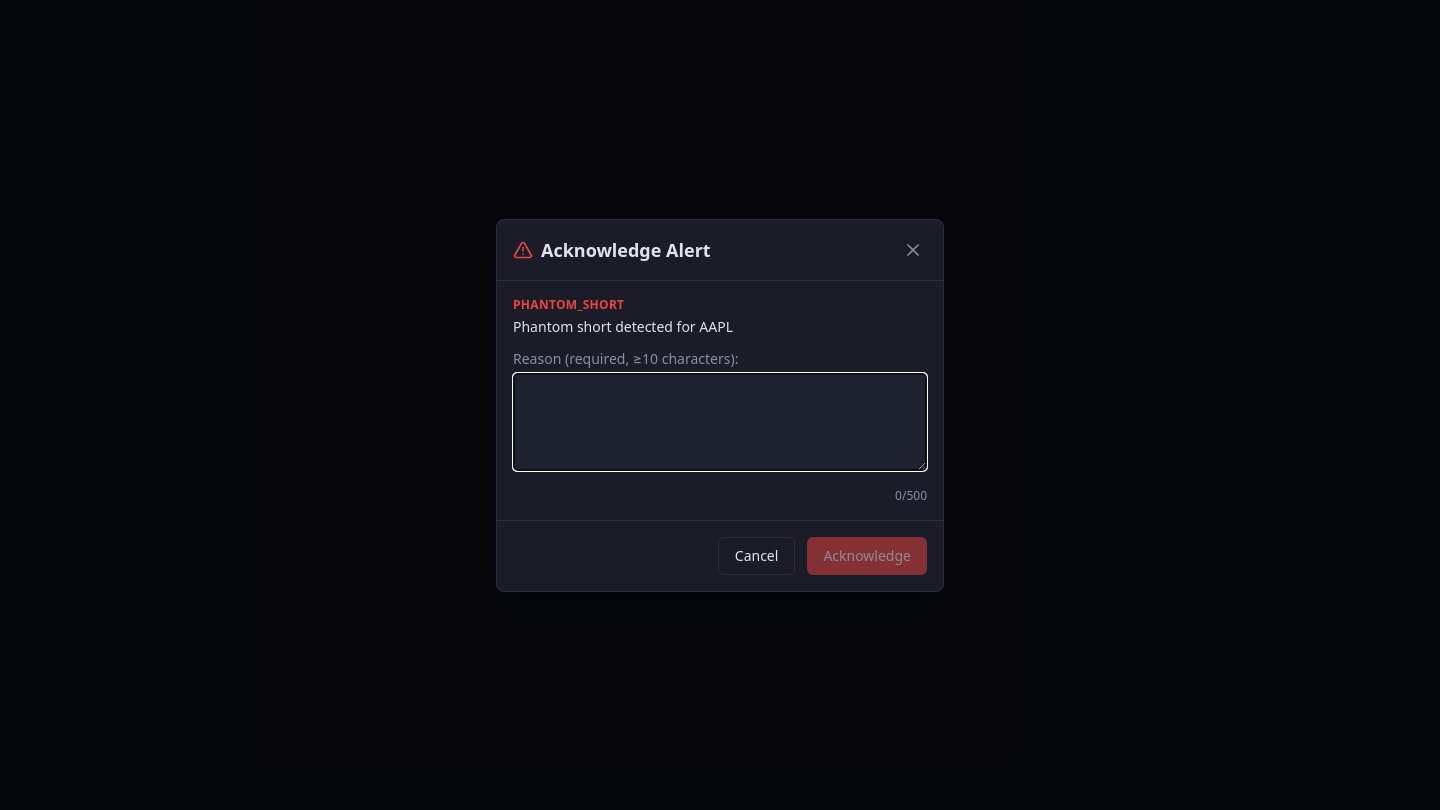
Scenario: AlertAcknowledgmentModal › handles duplicate-ack (200 with original acknowledger preserved)
Type "duplicate ack from another tab" into the text box.
click(720, 422); type("duplicate ack from another tab")  # box [513,372,927,470]
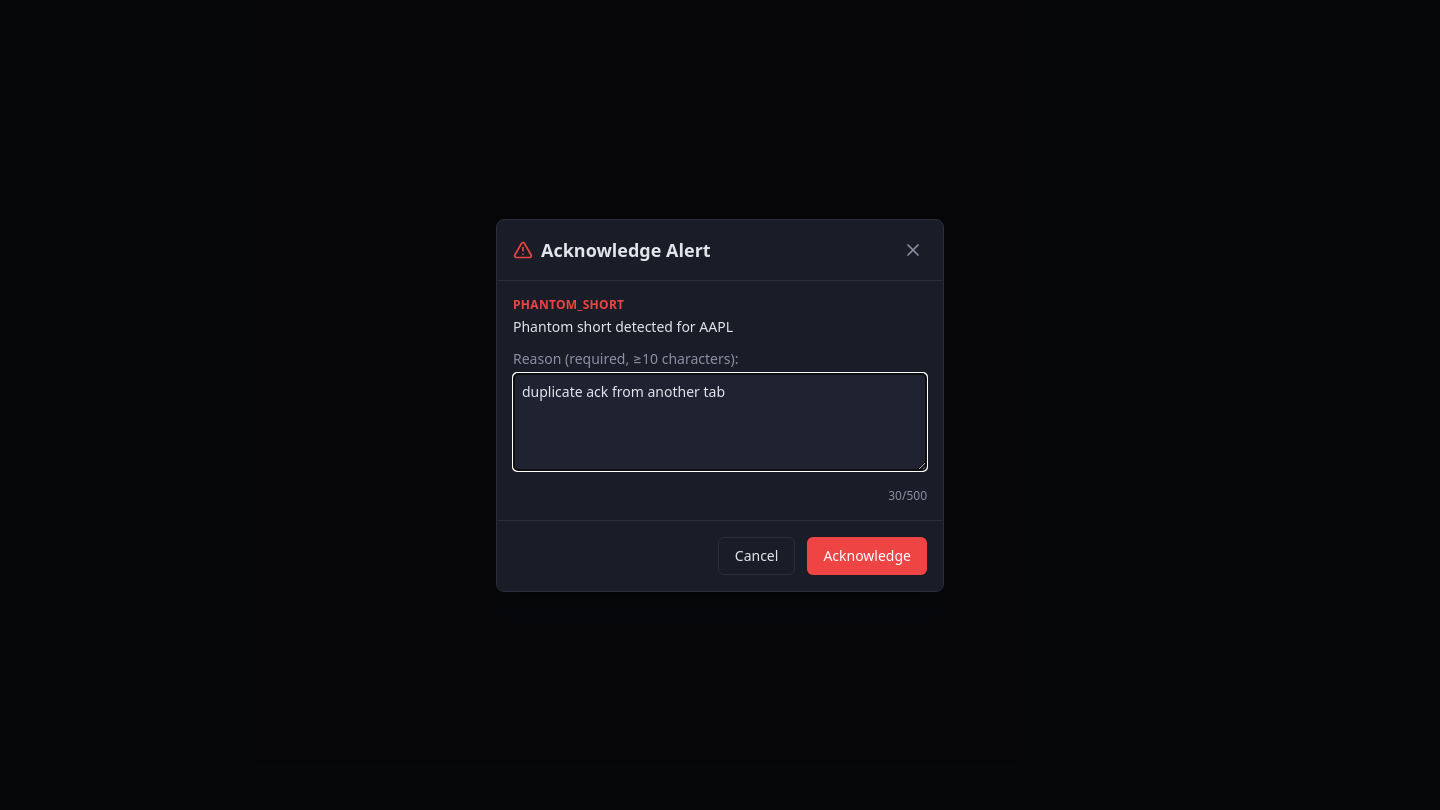
Click the button "Acknowledge".
click(867, 556)  # box [807,536,927,574]
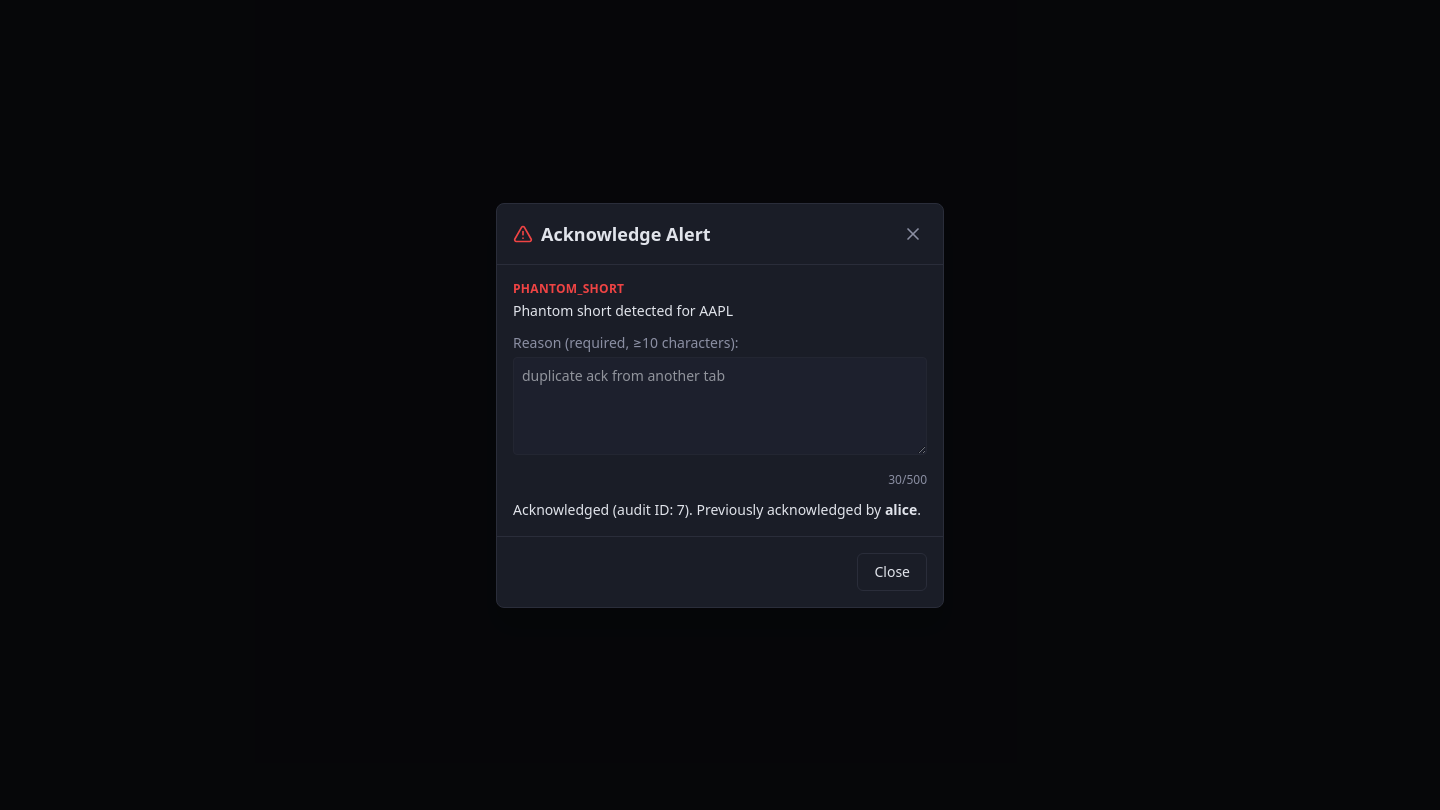
Expected: the message shows "audit ID: 7", [513,500,927,520]
Expected: the message shows "Previously acknowledged by", [685,500,885,518]
Expected: the message shows "alice", [885,500,917,518]
